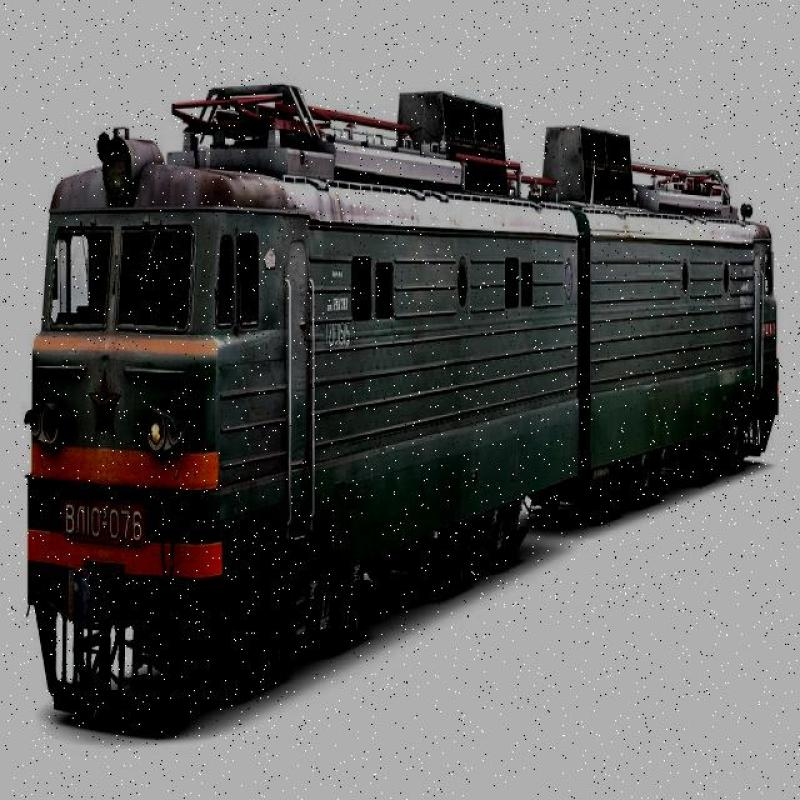train: (43, 58, 778, 709)
